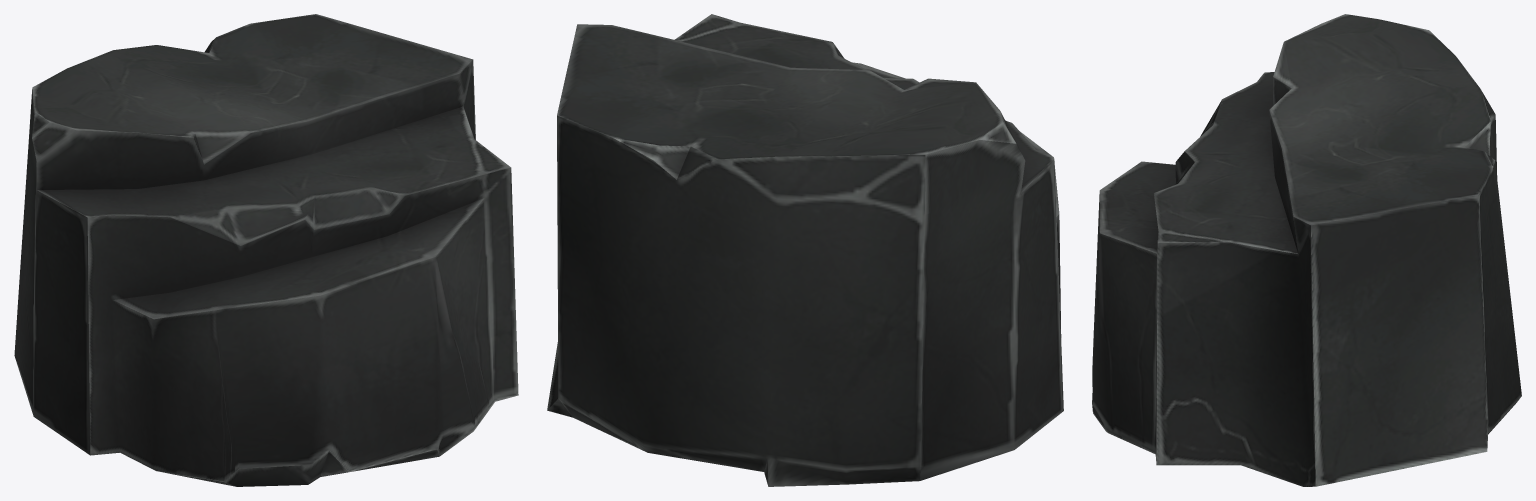
The model's file is Rock01.FBX.
3 views of the same model, side by side, from view 1: azimuth 30°, elevation 25°; view 2: azimuth 150°, elevation 25°; view 3: azimuth 270°, elevation 25° (orthographic). The views are drawn at different scales.
Visible parts, largest first — view 1: rock02-2; view 2: rock02-2; view 3: rock02-2.
Part boxes in pixels (left/top/right/bottom): rock02-2: left=14, top=14, right=518, bottom=486; rock02-2: left=547, top=14, right=1063, bottom=486; rock02-2: left=1092, top=14, right=1521, bottom=486.
Bounding box in the file's own units: 239 × 162 × 215.
